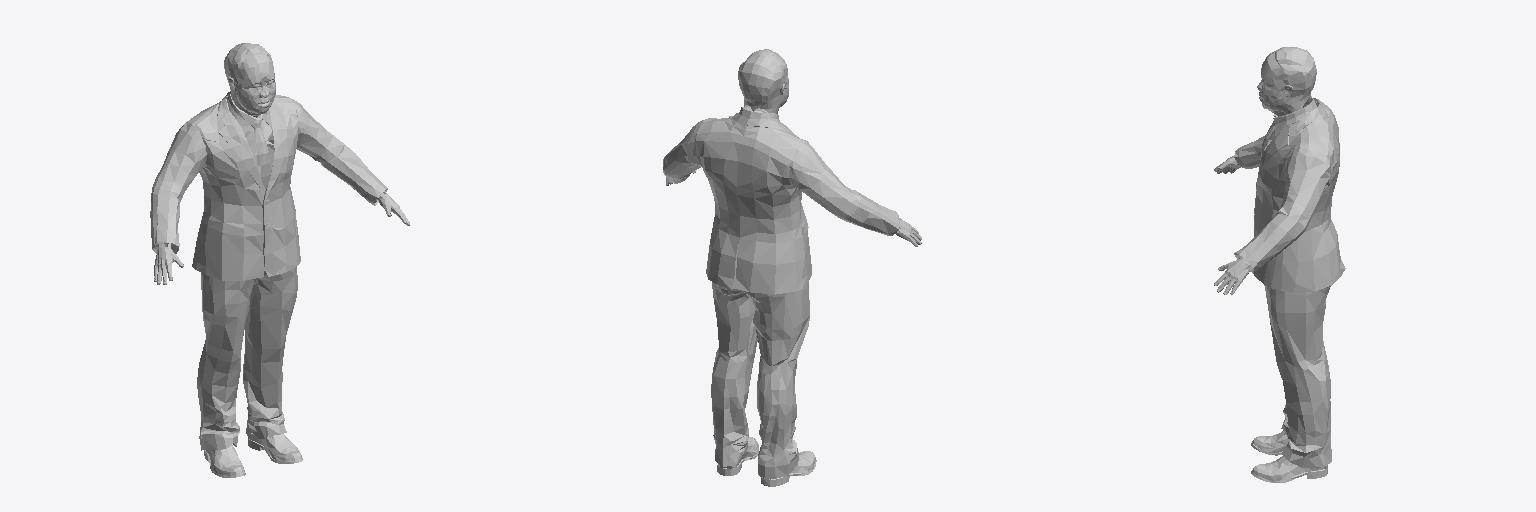
Rendered from result.obj.
The picture shows the model from 3 angles: view 1: azimuth 30°, elevation 25°; view 2: azimuth 150°, elevation 25°; view 3: azimuth 270°, elevation 25°; orthographic projection.
Size of the model in its own units: 10.39 by 16.34 by 4.69.